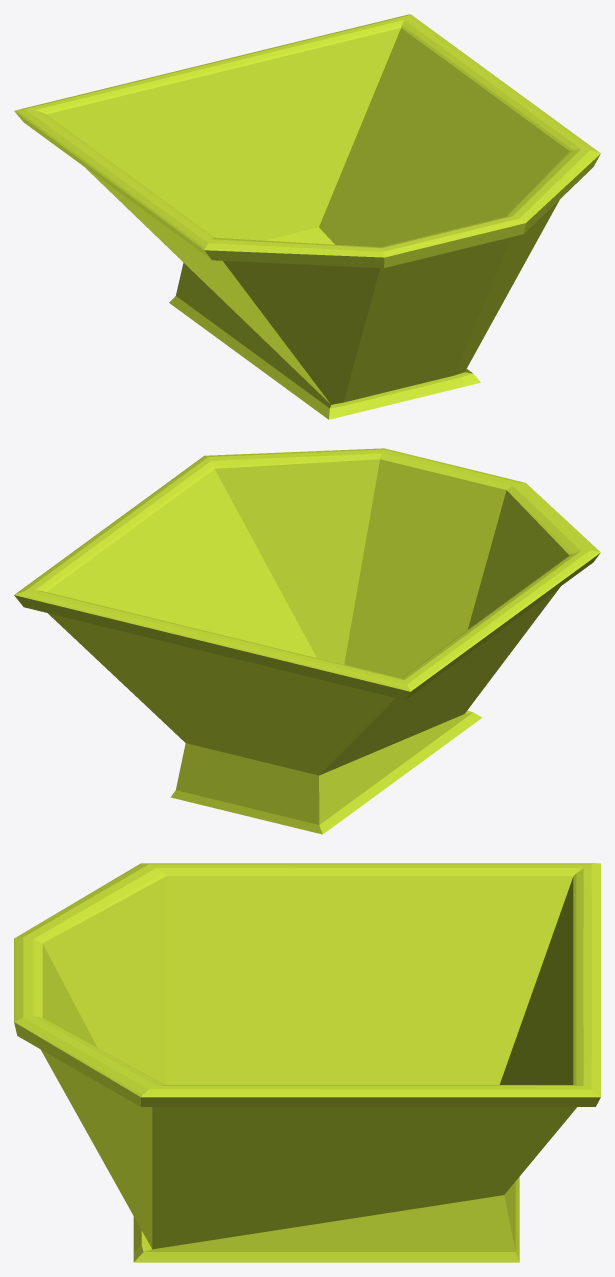
File: basin.fbx
3 renders of one model, top to bottom at view 1: azimuth 30°, elevation 25°; view 2: azimuth 150°, elevation 25°; view 3: azimuth 270°, elevation 25°, orthographic. The views are drawn at different scales.
Visible parts, largest first — view 1: Cube; view 2: Cube; view 3: Cube.
Boxes of the visible parts, <box> form: Cube: <box>14,14,600,419</box>; Cube: <box>14,448,600,834</box>; Cube: <box>14,863,600,1262</box>.
Size of the model in its own units: 634 by 305 by 673.
